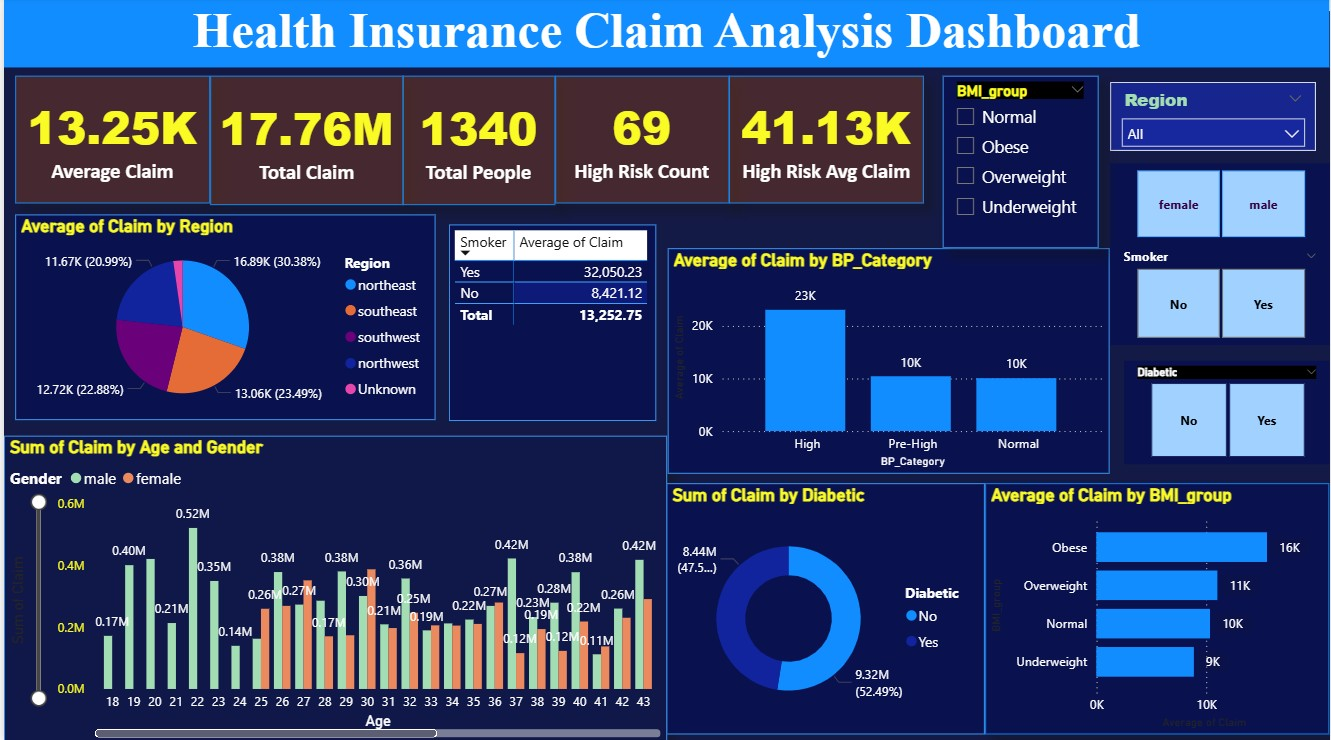

This screenshot's page, from the dashboard's own definition file:
{"tool":"powerbi","page":{"name":"Page 1","canvas":[1280,720],"ordinal":0},"visuals":[{"type":"card","fields":{"Values":["Avg(insurance_data_cleaned.Claim)"]},"box":[10.3,76.5,188.2,123.5],"z":0},{"type":"card","fields":{"Values":["Sum(insurance_data_cleaned.Claim)"]},"box":[198.5,76.5,186.8,125],"z":1000},{"type":"card","fields":{"Values":["CountNonNull(insurance_data_cleaned.PatientID)"]},"box":[385.3,76.5,147.1,125],"z":2000},{"type":"textbox","box":[0,0,1280.9,13.2],"z":4000},{"type":"clusteredColumnChart","fields":{"Series":["insurance_data_cleaned.Gender"],"Category":["insurance_data_cleaned.Age"],"Y":["Sum(insurance_data_cleaned.Claim)"]},"box":[0,423.5,639.7,297.1],"z":5000},{"type":"clusteredBarChart","fields":{"Category":["insurance_data_cleaned.BMI_group"],"Y":["Avg(insurance_data_cleaned.Claim)"]},"box":[947.1,469.1,332.4,242.6],"z":6000},{"type":"clusteredColumnChart","fields":{"Category":["insurance_data_cleaned.BP_Category"],"Y":["Avg(insurance_data_cleaned.Claim)"]},"box":[641.2,242.6,426.5,217.6],"z":7000},{"type":"donutChart","fields":{"Category":["insurance_data_cleaned.Diabetic"],"Y":["Sum(insurance_data_cleaned.Claim)"]},"box":[639.7,469.1,307.4,242.6],"z":8000},{"type":"pieChart","fields":{"Category":["insurance_data_cleaned.Region"],"Y":["Avg(insurance_data_cleaned.Claim)"]},"box":[10.3,210.3,405.9,198.5],"z":9000},{"type":"pivotTable","fields":{"Rows":["insurance_data_cleaned.Smoker"],"Values":["Avg(insurance_data_cleaned.Claim)"]},"box":[429.4,219.1,200,189.7],"z":10000},{"type":"slicer","fields":{"Values":["insurance_data_cleaned.Gender"]},"box":[1067.6,160.3,211.8,77.9],"z":11000},{"type":"slicer","fields":{"Values":["insurance_data_cleaned.Region"]},"box":[1067.6,82.4,198.5,66.2],"z":12000},{"type":"slicer","fields":{"Values":["insurance_data_cleaned.BMI_group"]},"box":[905.9,76.5,150,166.2],"z":13000},{"type":"slicer","fields":{"Values":["insurance_data_cleaned.Diabetic"]},"box":[1080.9,351.5,198.5,100],"z":14000},{"type":"slicer","fields":{"Values":["insurance_data_cleaned.Smoker"]},"box":[1067.6,238.2,211.8,98.5],"z":15000},{"type":"textbox","box":[0,0,1279.4,67.6],"z":15001},{"type":"card","fields":{"Values":["insurance_data_cleaned.HighRisk_Count"]},"box":[532.4,76.5,167.6,123.5],"z":15002},{"type":"card","fields":{"Values":["insurance_data_cleaned.HighRisk_AvgClaim"]},"box":[700,76.5,188.2,123.5],"z":15003}]}

Visuals, with their boxes in screenshot pixels (x1, y1, x2, y2), scaled from the page's 1280x720 canvas onto the 1331x740 screenshot:
card - Avg(insurance_data_cleaned.Claim): rect(11, 79, 206, 206)
card - Sum(insurance_data_cleaned.Claim): rect(206, 79, 401, 207)
card - CountNonNull(insurance_data_cleaned.PatientID): rect(401, 79, 554, 207)
textbox: rect(0, 0, 1330, 14)
clusteredColumnChart - insurance_data_cleaned.Gender x insurance_data_cleaned.Age: rect(0, 435, 665, 739)
clusteredBarChart - insurance_data_cleaned.BMI_group x Avg(insurance_data_cleaned.Claim): rect(985, 482, 1330, 731)
clusteredColumnChart - insurance_data_cleaned.BP_Category x Avg(insurance_data_cleaned.Claim): rect(667, 249, 1110, 473)
donutChart - insurance_data_cleaned.Diabetic x Sum(insurance_data_cleaned.Claim): rect(665, 482, 985, 731)
pieChart - insurance_data_cleaned.Region x Avg(insurance_data_cleaned.Claim): rect(11, 216, 433, 420)
pivotTable - insurance_data_cleaned.Smoker x Avg(insurance_data_cleaned.Claim): rect(447, 225, 654, 420)
slicer - insurance_data_cleaned.Gender: rect(1110, 165, 1330, 245)
slicer - insurance_data_cleaned.Region: rect(1110, 85, 1317, 153)
slicer - insurance_data_cleaned.BMI_group: rect(942, 79, 1098, 249)
slicer - insurance_data_cleaned.Diabetic: rect(1124, 361, 1330, 464)
slicer - insurance_data_cleaned.Smoker: rect(1110, 245, 1330, 346)
textbox: rect(0, 0, 1330, 69)
card - insurance_data_cleaned.HighRisk_Count: rect(554, 79, 728, 206)
card - insurance_data_cleaned.HighRisk_AvgClaim: rect(728, 79, 924, 206)
